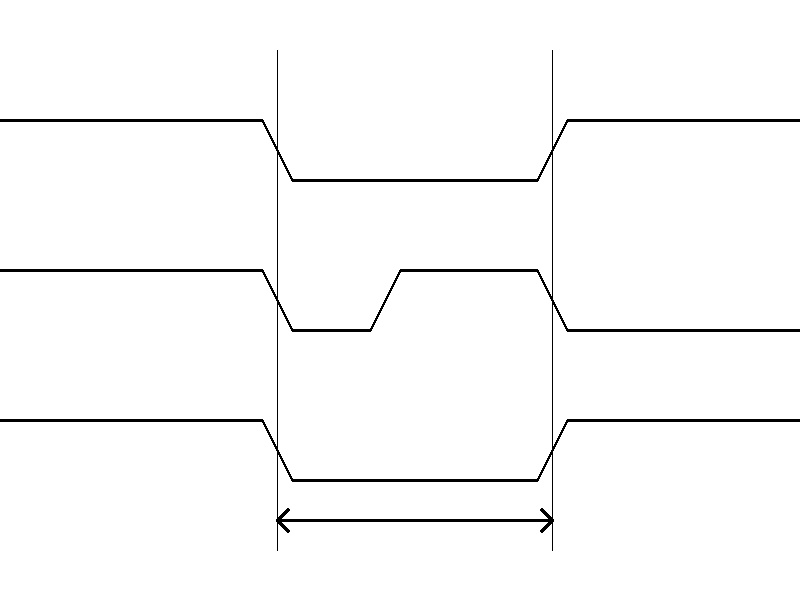double_arrow: (277, 505, 552, 535)
